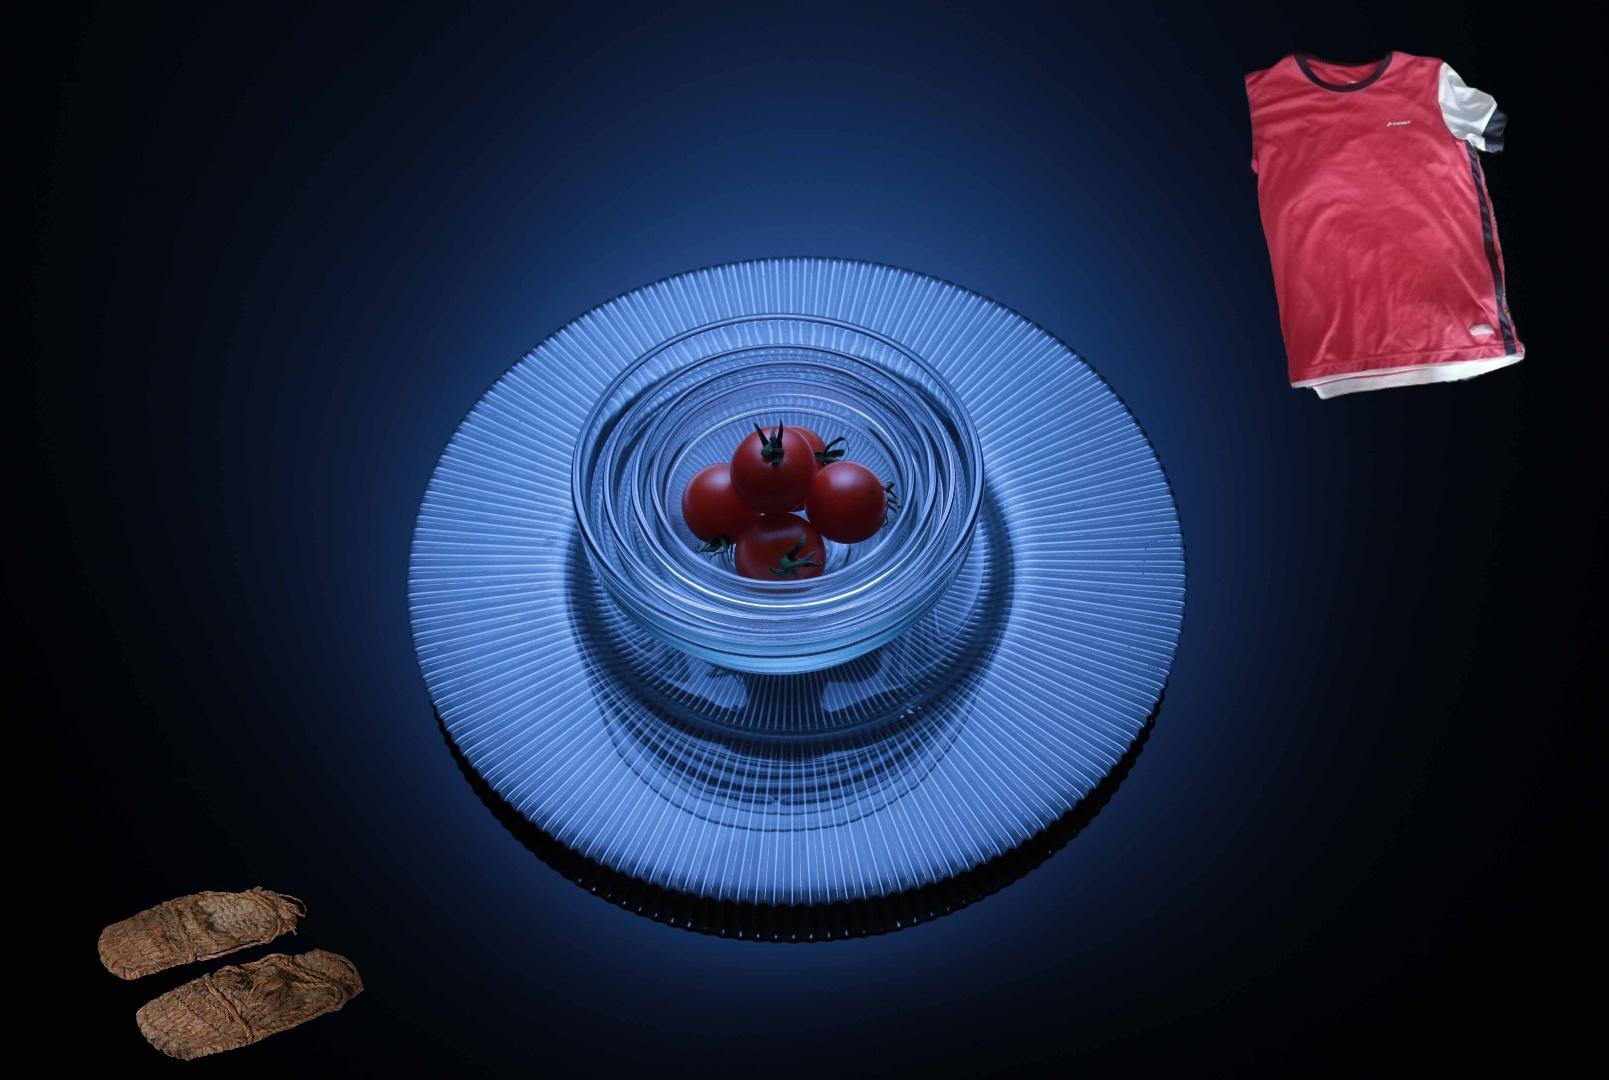clothes: (1200, 46, 1531, 405)
shoes: (94, 882, 368, 1064)
